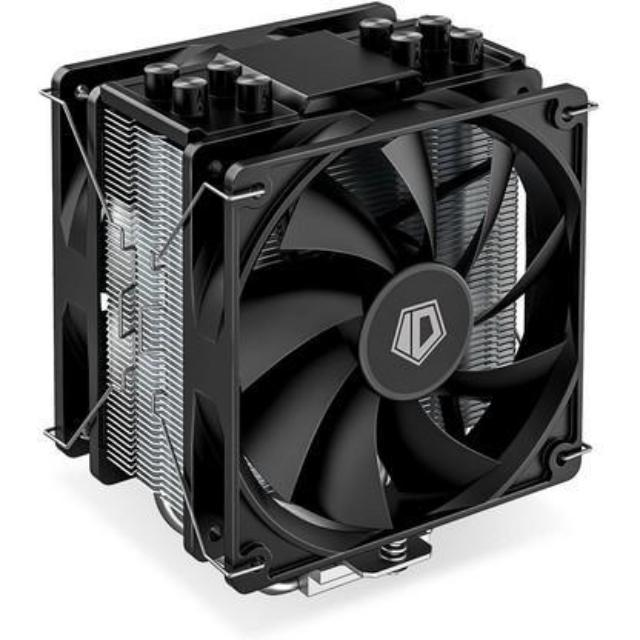CPU_Fan: (49, 1, 586, 601)
